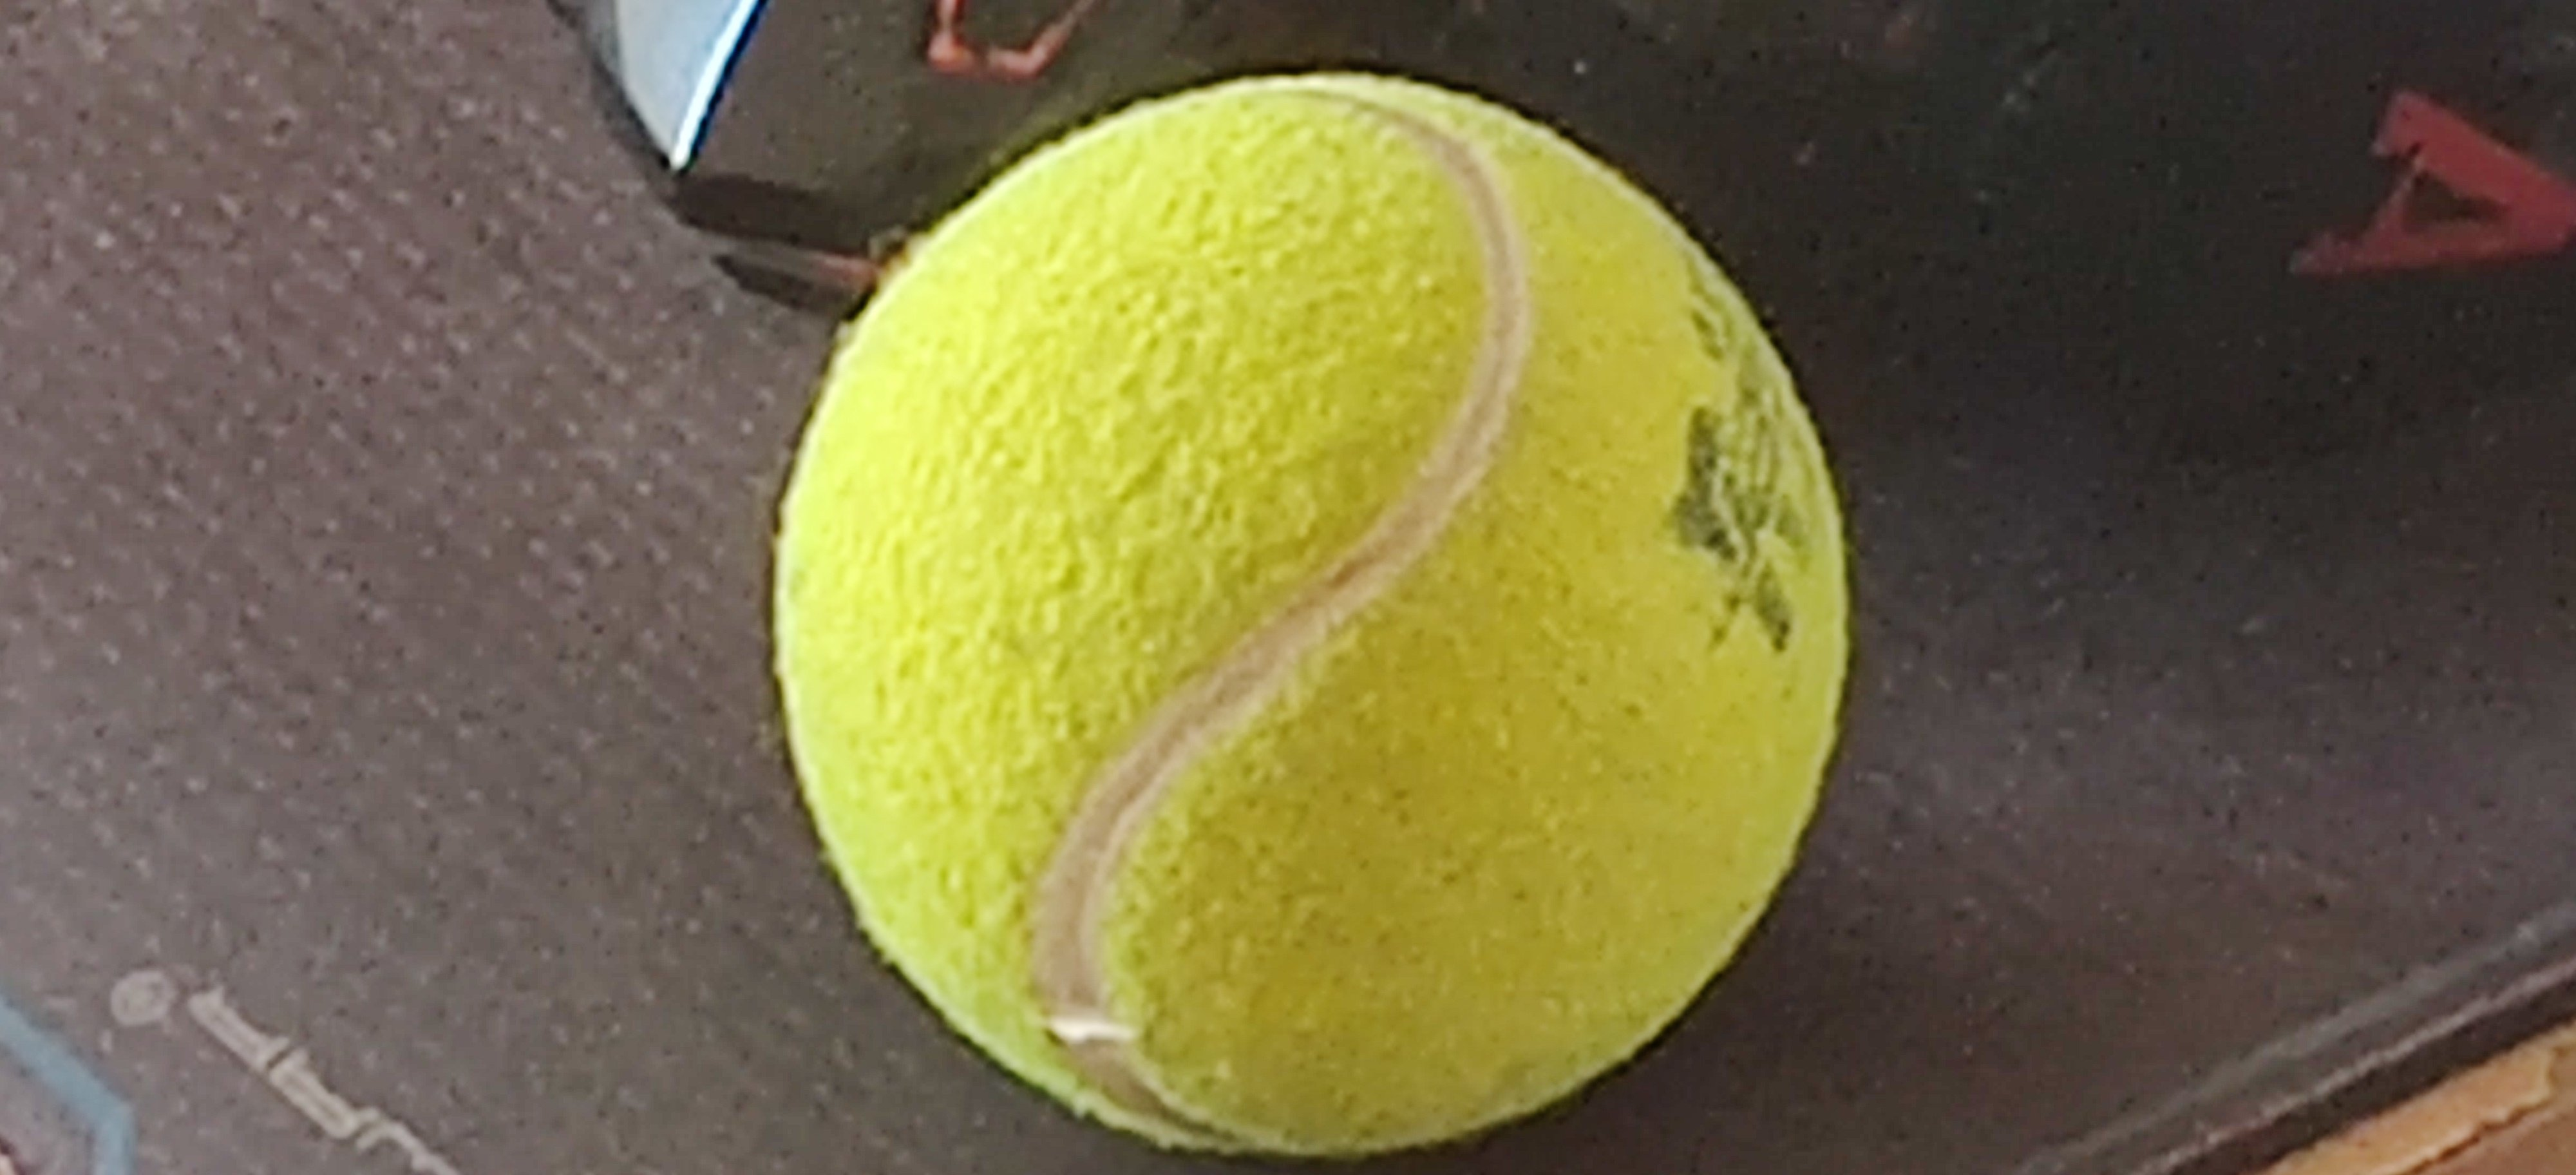Tennis-Ball: (772, 69, 1850, 1149)
